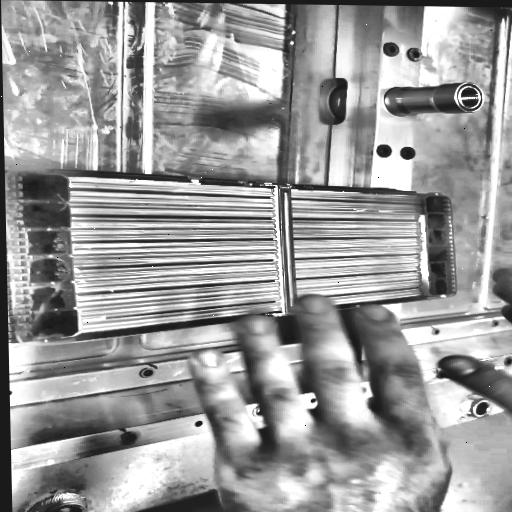battery_module: (4, 164, 463, 355)
